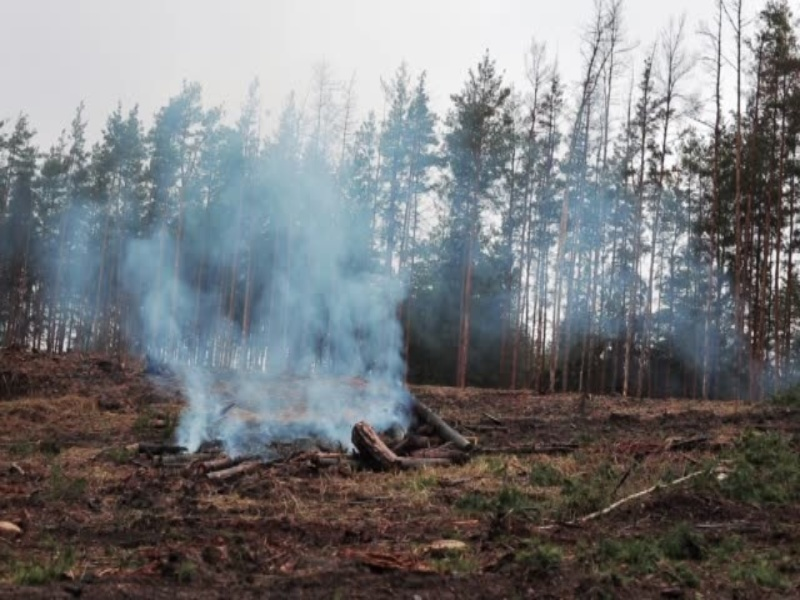smoke: (126, 171, 404, 434)
